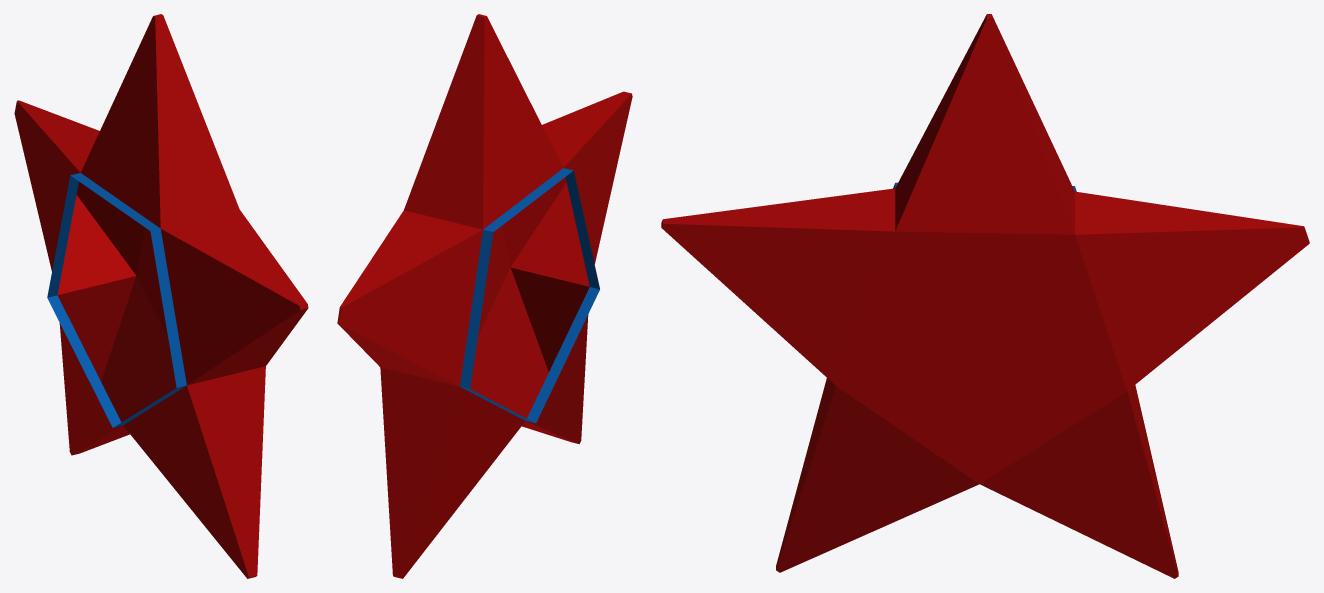
File: Red_Star.fbx
The picture shows the model from 3 angles, left to right: view 1: azimuth 30°, elevation 25°; view 2: azimuth 150°, elevation 25°; view 3: azimuth 270°, elevation 25°; orthographic projection. The views are drawn at different scales.
Visible parts, largest first — view 1: pCylinder1; view 2: pCylinder1; view 3: pCylinder1.
Part boxes in pixels (box(x1,y1,x2,y2)): pCylinder1: box(14, 14, 308, 578); pCylinder1: box(337, 14, 632, 578); pCylinder1: box(661, 14, 1309, 578).
Bounding box in the file's own units: 2.67 × 14.25 × 14.94.
